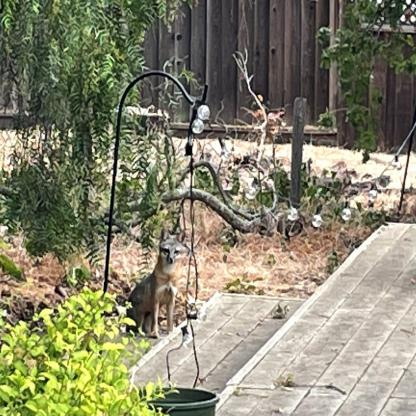zorro: (119, 222, 197, 347)
